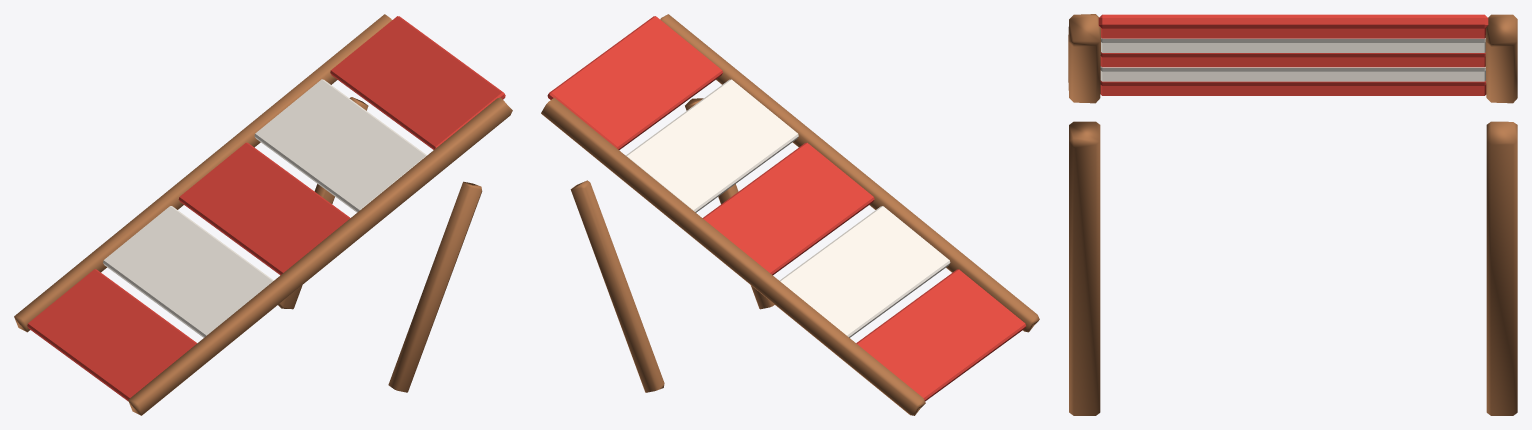
The model's file is deckchair.glb.
3 renders of one model, left to right at view 1: azimuth 30°, elevation 25°; view 2: azimuth 150°, elevation 25°; view 3: azimuth 270°, elevation 25°, orthographic. The views are drawn at different scales.
Parts seen in each view (by area): view 1: deckchair; view 2: deckchair; view 3: deckchair.
Boxes of the visible parts, box(x1,y1,x2,y2) form: deckchair: box(14, 14, 512, 415); deckchair: box(541, 14, 1039, 415); deckchair: box(1068, 14, 1517, 415).
Size of the model in its own units: 1.15 by 0.7806 by 0.6463.
1 material, 1 textured.
